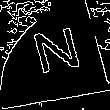N_S: (25, 26, 85, 84)
